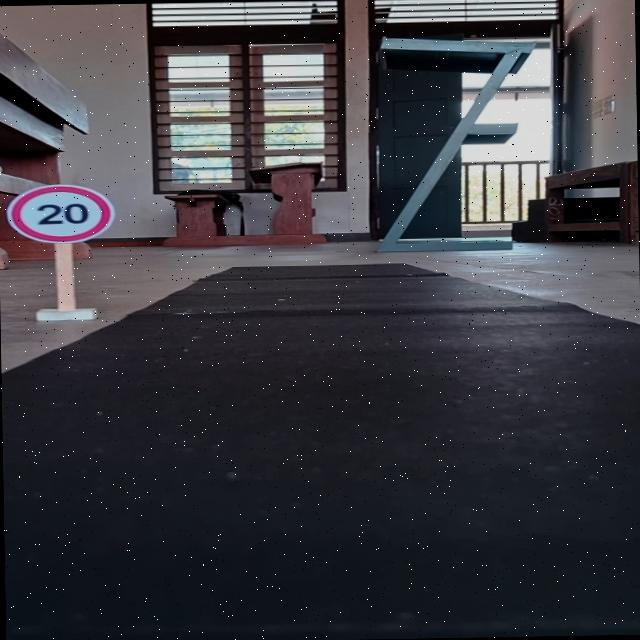Speed20: (0, 177, 119, 246)
